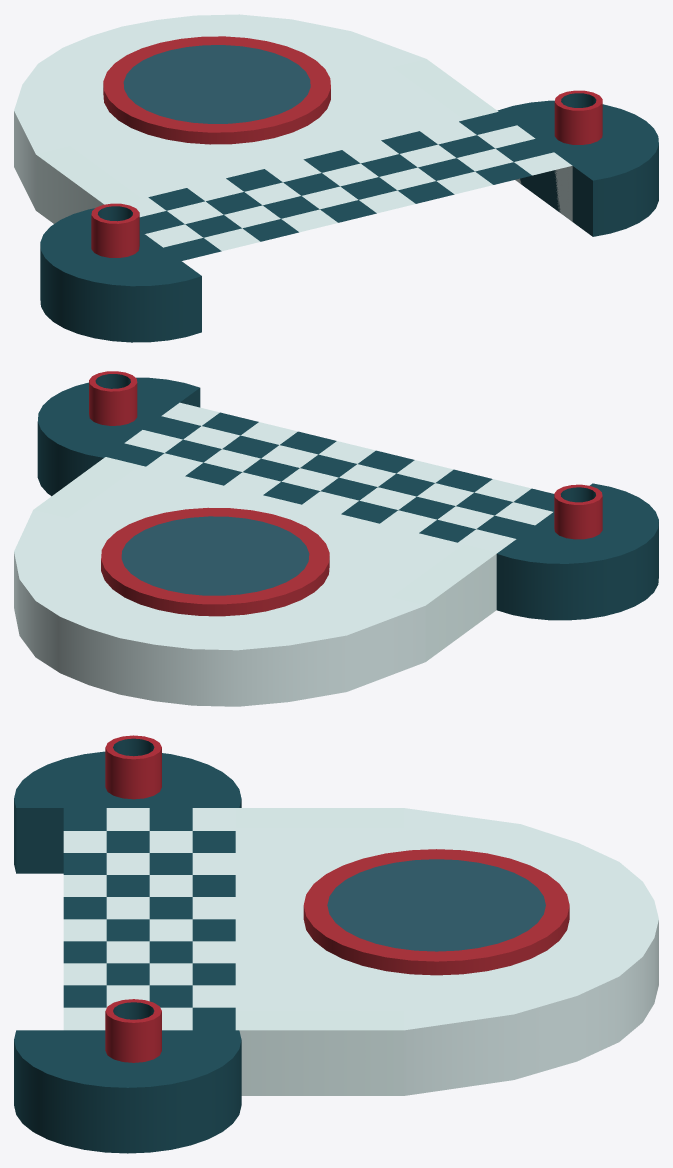
The model's file is 2son_ksm.fbx.
3 views of the same model, one above another, from view 1: azimuth 30°, elevation 25°; view 2: azimuth 150°, elevation 25°; view 3: azimuth 270°, elevation 25° (orthographic). The views are drawn at different scales.
Parts seen in each view (by area): view 1: Cube.002, Circle.001, Cube.003, Circle; view 2: Cube.002, Cube.003, Circle.001, Circle; view 3: Cube.002, Circle.001, Cube.003, Circle.
Boxes of the visible parts, x1,y1,x2,y2 form: Cube.002: [14, 14, 498, 223]; Circle.001: [40, 90, 658, 342]; Cube.003: [122, 112, 572, 260]; Circle: [103, 36, 330, 144]; Cube.002: [14, 457, 497, 706]; Cube.003: [106, 402, 554, 552]; Circle.001: [37, 371, 658, 620]; Circle: [101, 507, 329, 616]; Cube.002: [235, 808, 658, 1095]; Circle.001: [14, 735, 241, 1153]; Cube.003: [63, 808, 235, 1030]; Circle: [303, 849, 569, 975].
Bounding box in the file's own units: 364 × 53.15 × 294.
